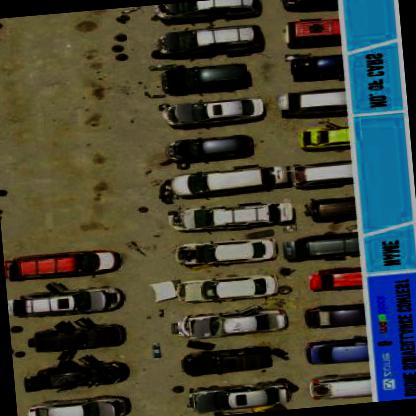car: (5, 244, 124, 282), (169, 164, 290, 200), (172, 198, 296, 232), (174, 304, 291, 340), (13, 284, 126, 320), (24, 358, 129, 394), (152, 24, 264, 57), (176, 271, 281, 306), (158, 95, 265, 129), (181, 344, 290, 376), (190, 380, 292, 412), (156, 59, 250, 92), (177, 235, 275, 266), (30, 321, 124, 353), (165, 132, 256, 164), (158, 0, 261, 27), (277, 86, 347, 120), (29, 393, 132, 415), (284, 232, 358, 259), (292, 158, 353, 190), (307, 372, 371, 402), (304, 337, 369, 366), (306, 266, 362, 294), (284, 17, 340, 45), (290, 53, 343, 82), (306, 304, 366, 328), (308, 194, 356, 222), (300, 126, 350, 148), (279, 0, 338, 14)
